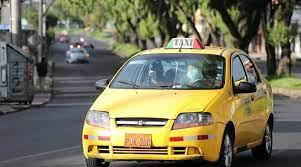taxi: (78, 35, 282, 167)
